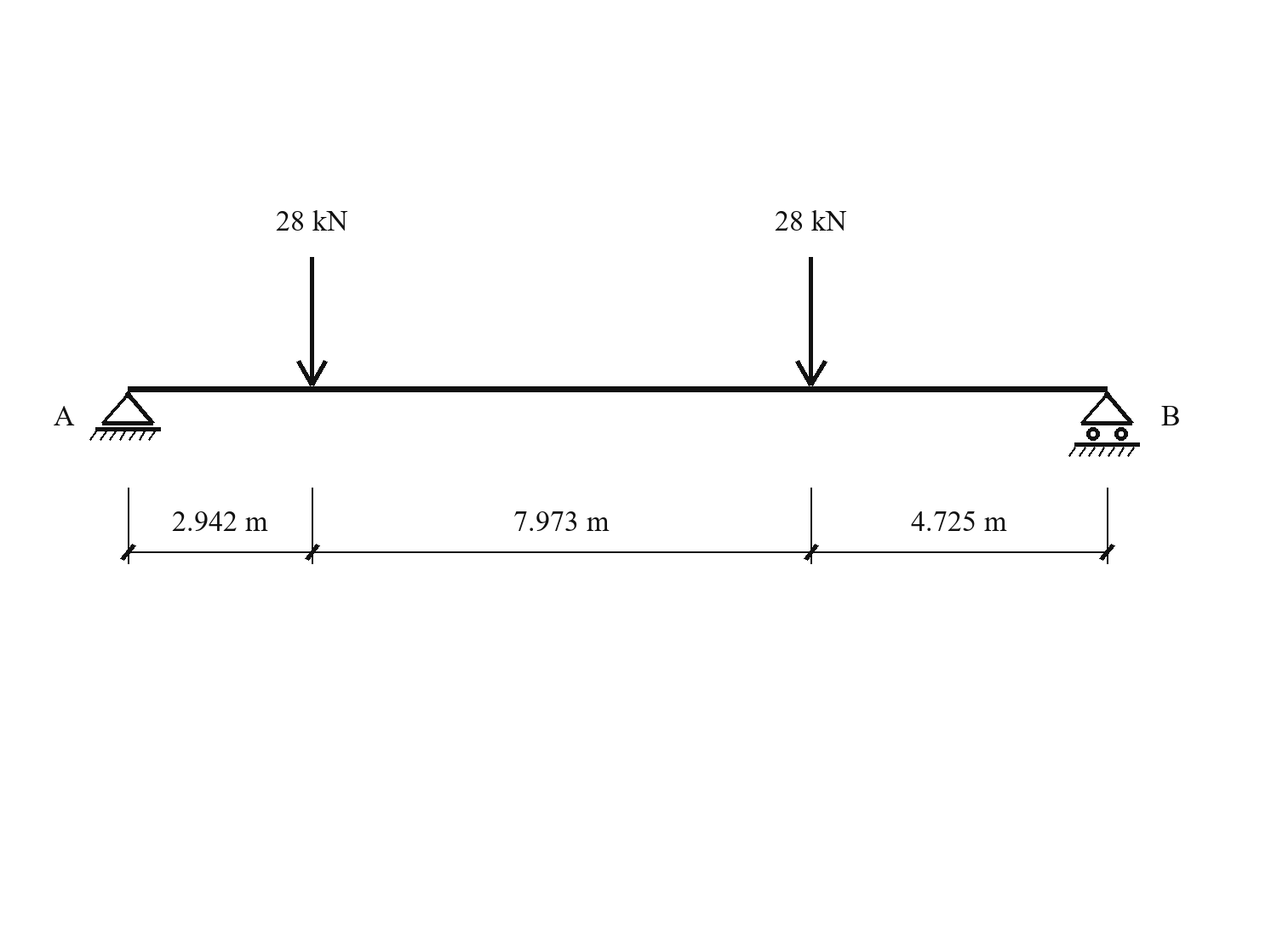pin_support: (89, 391, 161, 441)
point_load: (296, 257, 328, 386), (795, 257, 827, 386)
roller_support: (1068, 391, 1140, 457)
